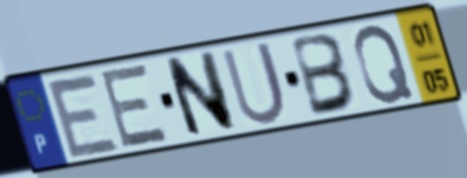B: (288, 30, 360, 120)
E: (42, 72, 124, 161), (98, 61, 172, 152)
N: (160, 47, 240, 142)
Q: (351, 22, 418, 107)
U: (218, 37, 289, 128)
